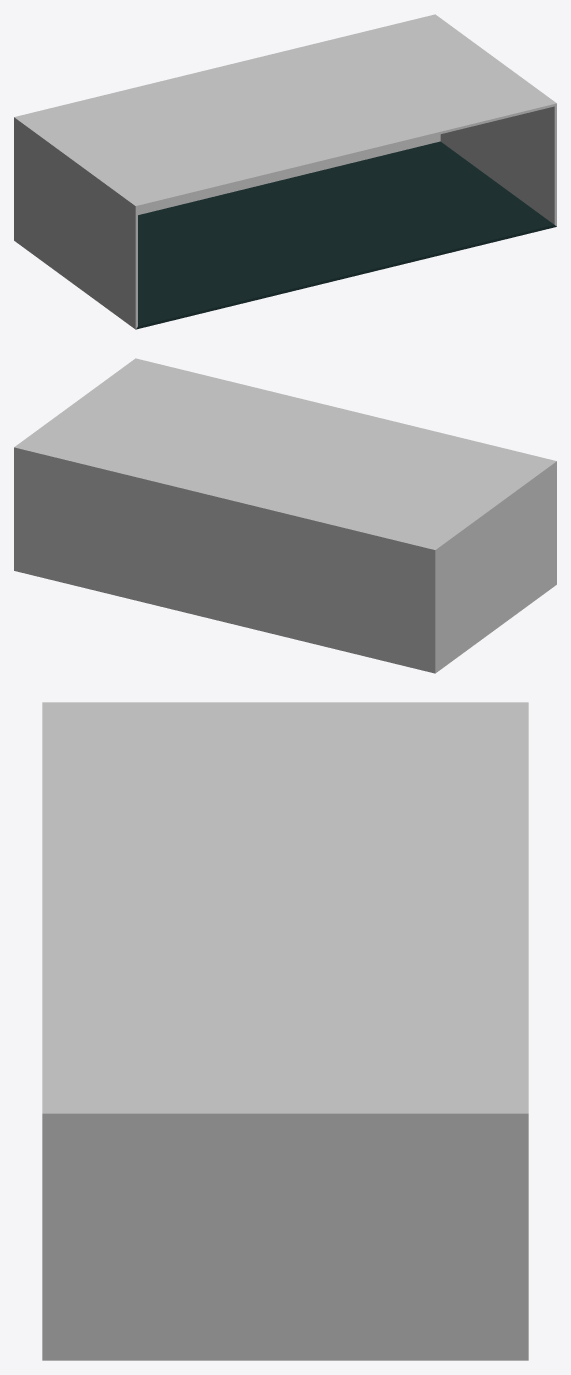
Rendered from SM_store_inside.fbx.
The picture shows the model from 3 angles, top to bottom: view 1: azimuth 30°, elevation 25°; view 2: azimuth 150°, elevation 25°; view 3: azimuth 270°, elevation 25°; orthographic projection. The views are drawn at different scales.
Visible parts, largest first — view 1: store_inside; view 2: store_inside; view 3: store_inside.
Part boxes in pixels (x1=…): store_inside: x1=14, y1=14, x2=556, y2=329; store_inside: x1=14, y1=358, x2=556, y2=673; store_inside: x1=42, y1=702, x2=528, y2=1360.
Size of the model in its own units: 1000 by 280 by 500.
